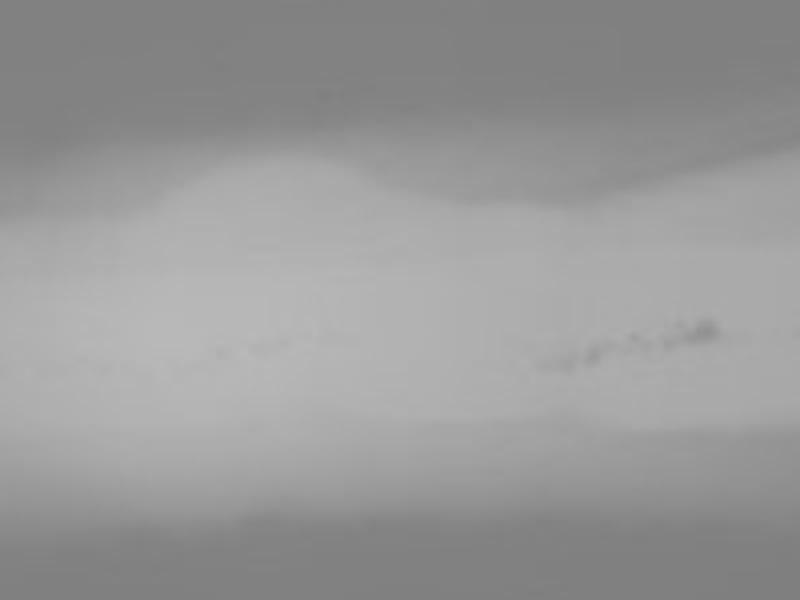defect: (680, 319, 723, 349), (581, 337, 605, 366), (554, 352, 578, 370), (657, 333, 675, 349), (624, 328, 639, 345)
